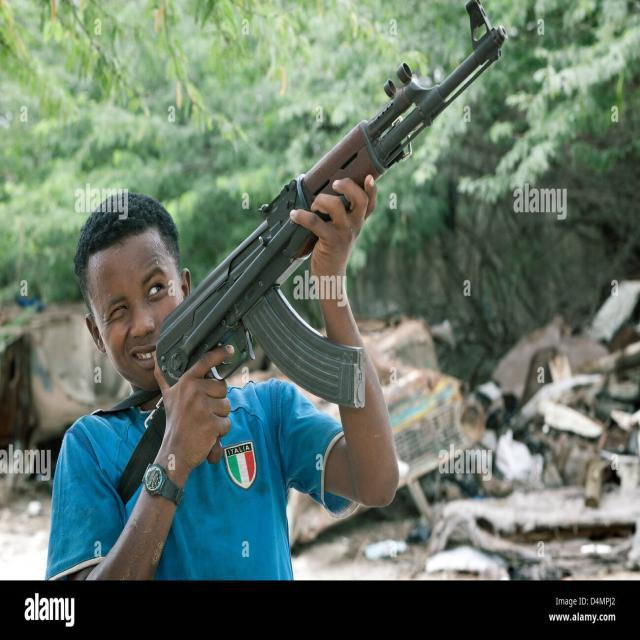weapon: (117, 0, 510, 506)
